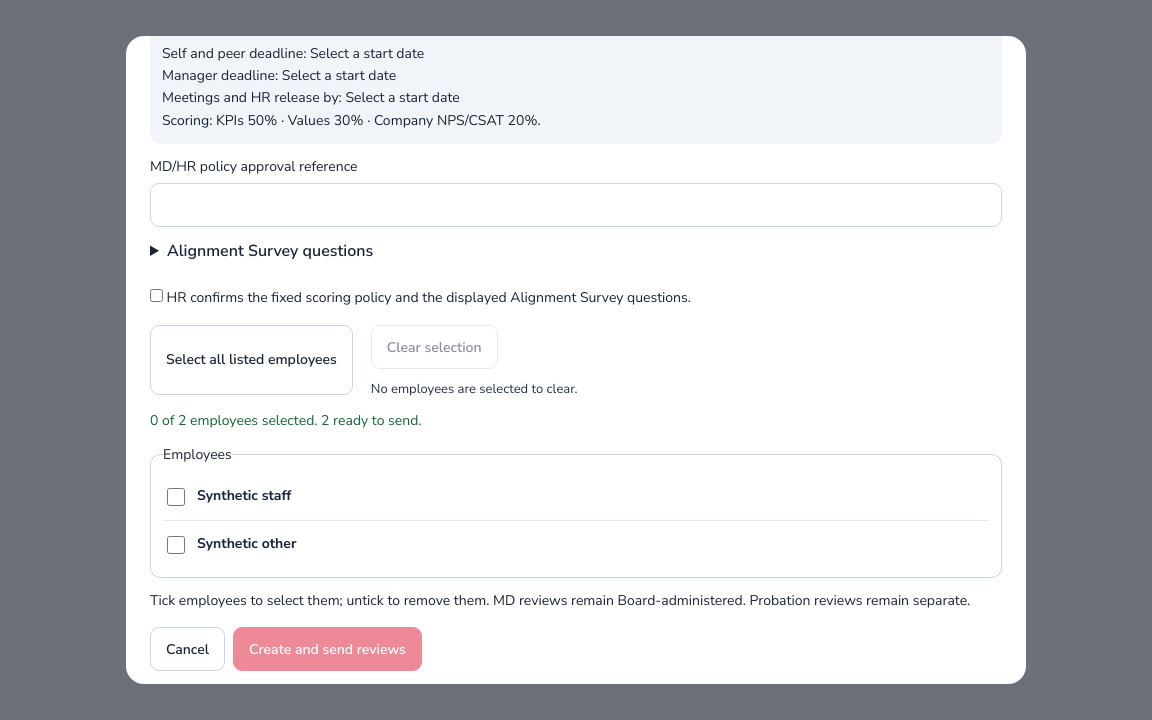
Test: send all requires a confirmed Open cycle and leaves a visible receipt until Done
This screenshot has width=1152, height=720.
Later steps or results of the test are not shown.
(page scrolled)
Click the button "Select all listed employees".
click(251, 360)  # box [150,325,353,395]
(page scrolled)
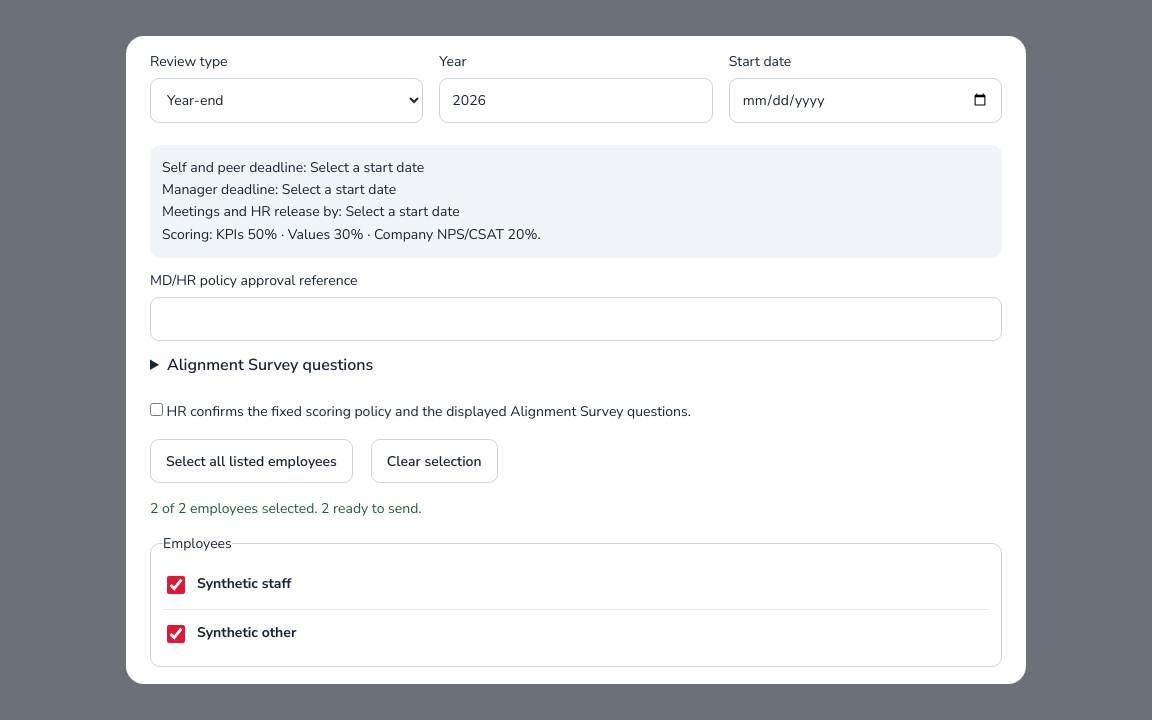
Check: the text "2 of 2 employees selected" is shown, box [150,499,422,518]
Submit the form
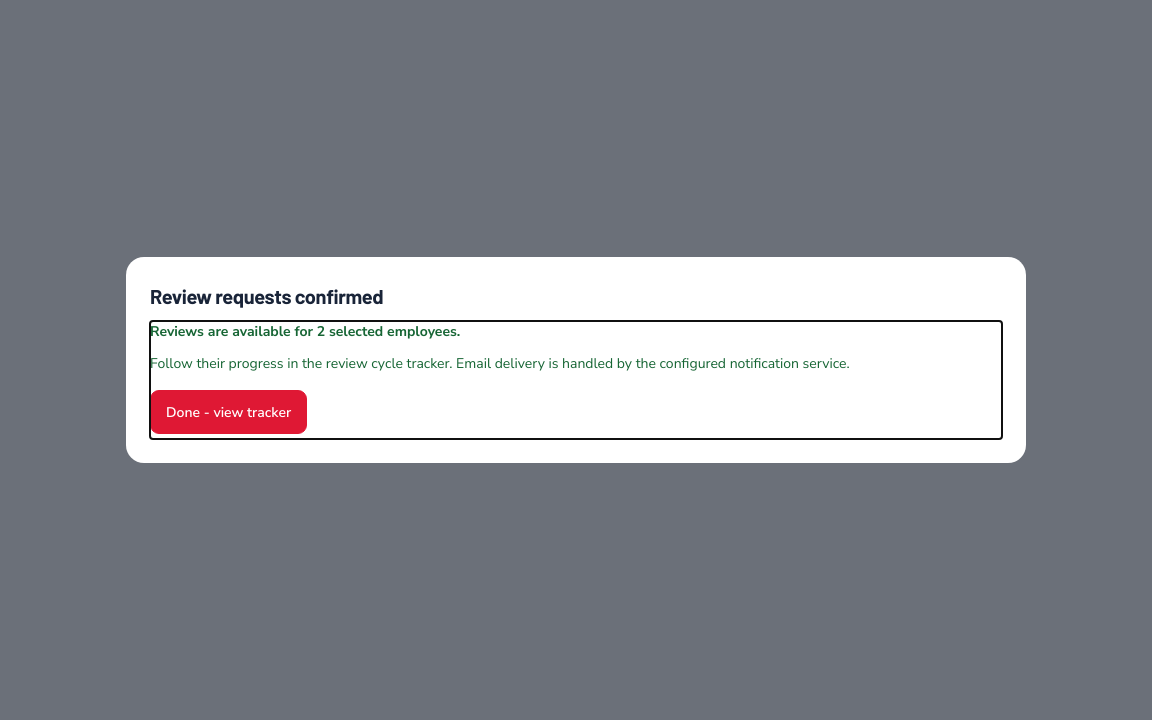
Check: the text "Reviews are available for 2 selected employees." is shown, box [150,322,460,341]
Press Tab in the message, box [150,322,850,434]
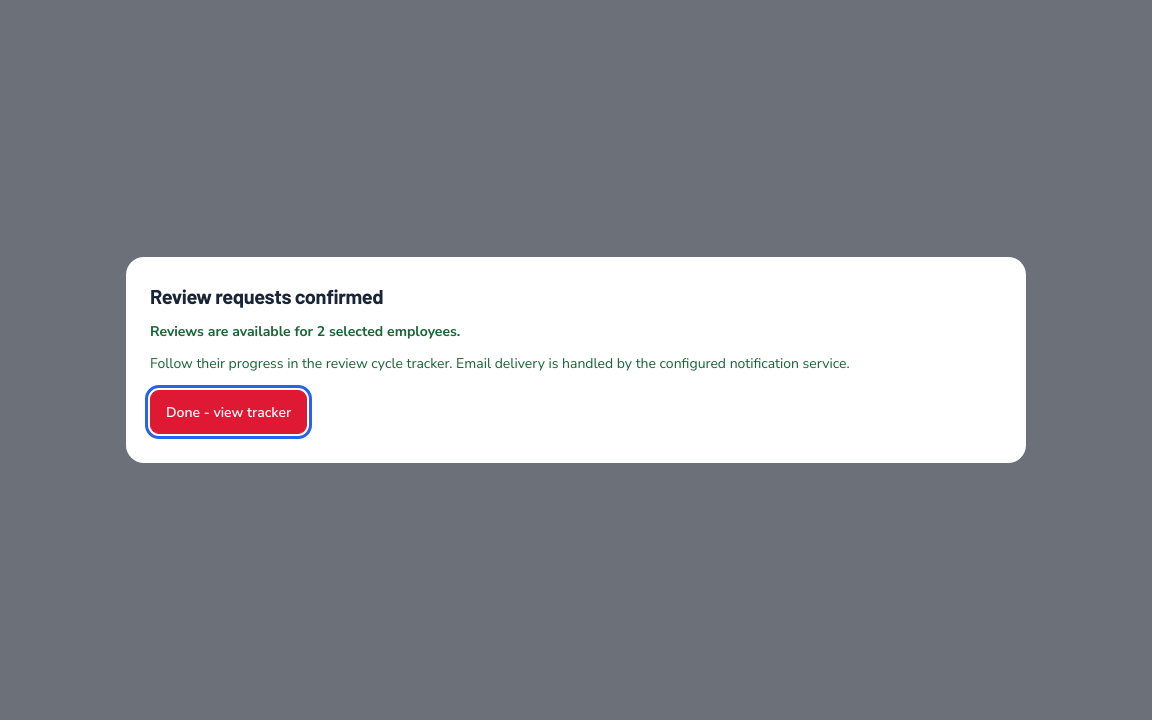
Check: the button "Done - view tracker" is shown, box [150,390,307,434]
